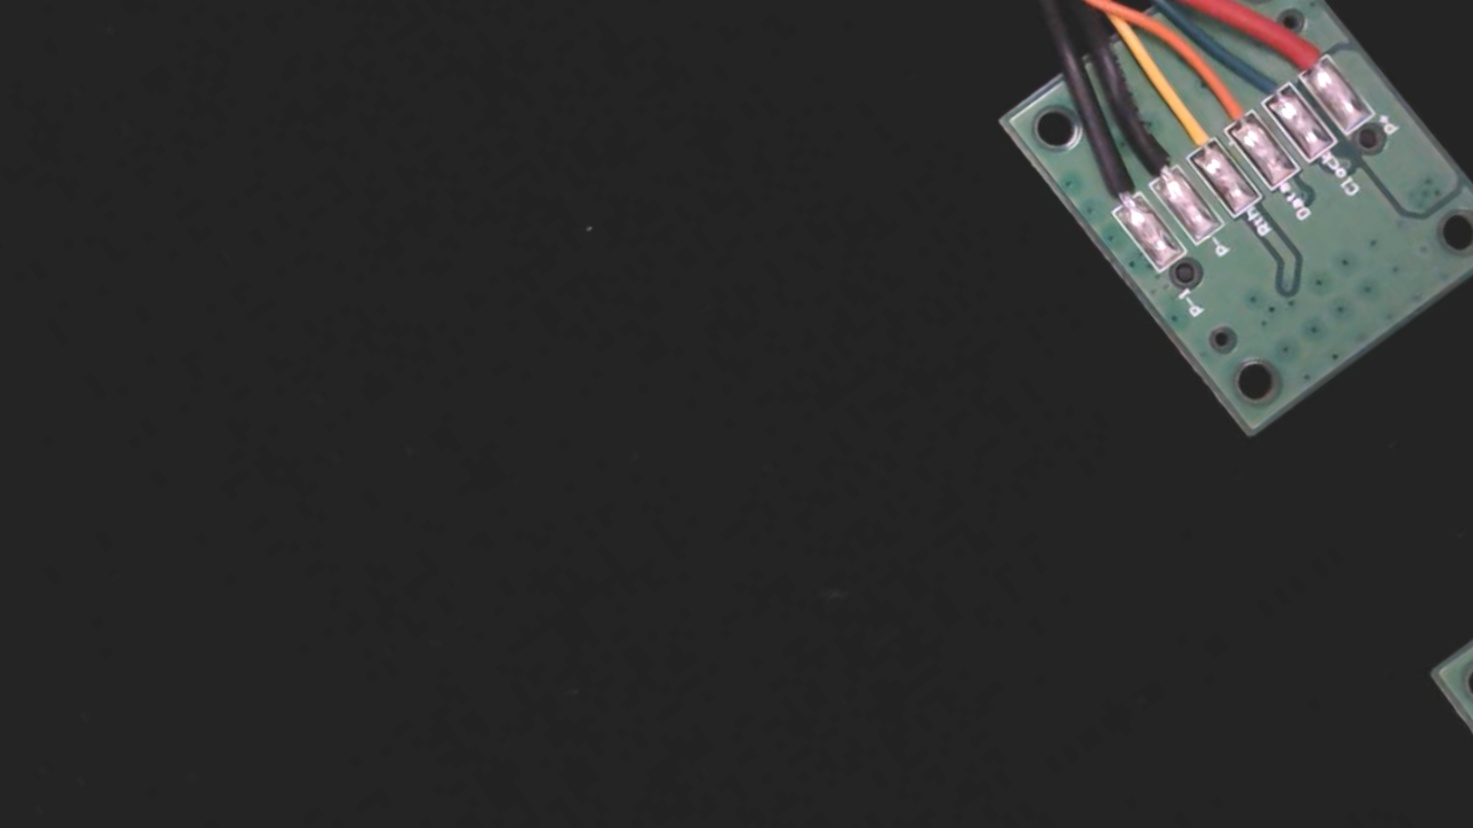Black: (1115, 117, 1192, 198)
Black1: (1070, 141, 1153, 228)
Green: (1222, 31, 1309, 120)
Orange: (1184, 57, 1269, 146)
Red: (1258, 7, 1345, 96)
Yellow: (1143, 82, 1232, 175)
